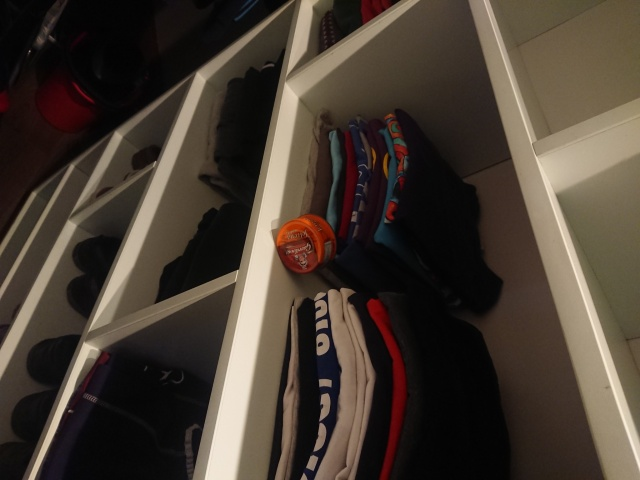Gavrilovic Pork Liver Pate 100g: (273, 211, 339, 276)
